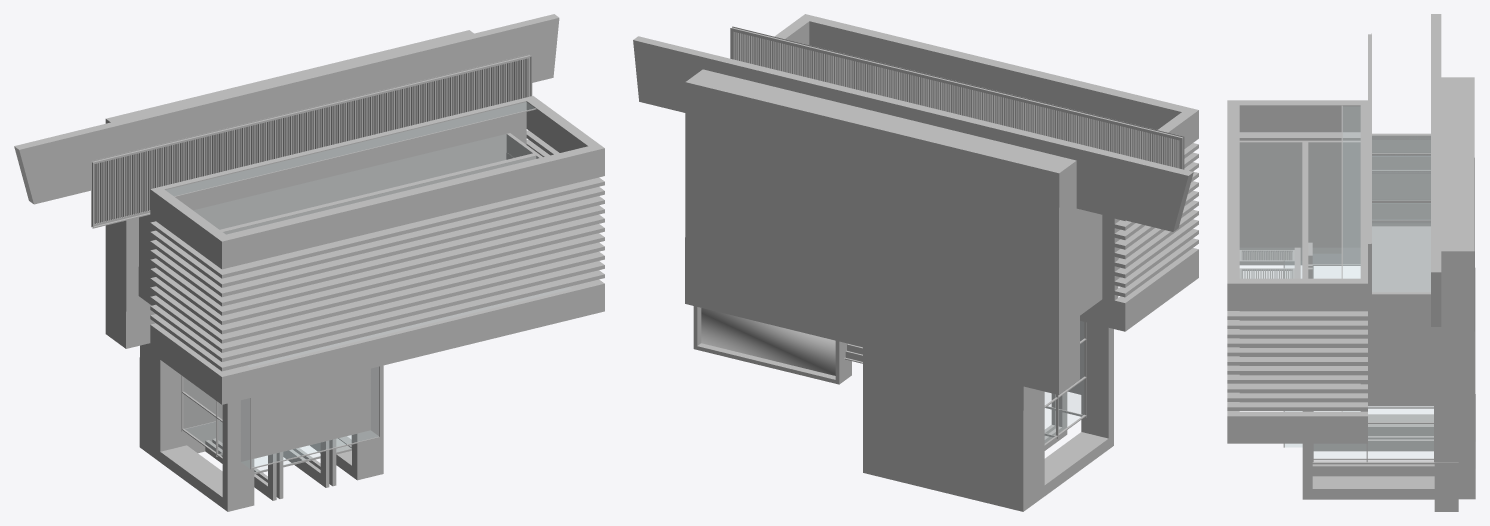
File: Minimal Modern Villa House N101225.obj
3 views of the same model, side by side, from view 1: azimuth 30°, elevation 25°; view 2: azimuth 150°, elevation 25°; view 3: azimuth 270°, elevation 25° (orthographic). The views are drawn at different scales.
Parts seen in each view (by area): view 1: gg_000565, gg_000584, gg_000577, gg_000581, gg_000004, gg_000591, gg_000001, gg_000602, gg_000567, gg_000568, gg_000575, gg_000569 (+18 smaller); view 2: gg_000004, gg_000001, gg_000565, gg_000577, gg_000602, Box145, gg_000581, gg_000631, gg_000003, gg_000584, gg_000550, gg_000588 (+5 smaller); view 3: gg_000004, gg_000577, gg_000623, gg_000620, gg_000581, gg_000631, gg_000588, gg_000636, gg_000559, gg_000565, gg_000578, gg_000562 (+33 smaller).
Part boxes in pixels (bbox=[...]): gg_000565: bbox=[14, 14, 559, 204]; gg_000584: bbox=[161, 98, 526, 229]; gg_000577: bbox=[150, 96, 604, 269]; gg_000581: bbox=[150, 279, 604, 404]; gg_000004: bbox=[105, 30, 473, 348]; gg_000591: bbox=[254, 372, 357, 458]; gg_000001: bbox=[139, 343, 222, 461]; gg_000602: bbox=[168, 397, 254, 511]; gg_000567: bbox=[150, 130, 604, 278]; gg_000568: bbox=[150, 139, 604, 287]; gg_000575: bbox=[150, 251, 604, 352]; gg_000569: bbox=[150, 196, 604, 297]; gg_000004: bbox=[685, 69, 1080, 394]; gg_000001: bbox=[863, 347, 1044, 511]; gg_000565: bbox=[633, 36, 1193, 231]; gg_000577: bbox=[774, 14, 1198, 148]; gg_000602: bbox=[1044, 321, 1113, 489]; Box145: bbox=[701, 308, 835, 375]; gg_000581: bbox=[1114, 248, 1198, 331]; gg_000631: bbox=[1080, 209, 1102, 314]; gg_000003: bbox=[693, 306, 851, 384]; gg_000584: bbox=[1080, 215, 1118, 328]; gg_000550: bbox=[730, 26, 1184, 169]; gg_000588: bbox=[1045, 321, 1083, 442]; gg_000004: bbox=[1434, 77, 1475, 462]; gg_000577: bbox=[1227, 100, 1367, 310]; gg_000623: bbox=[1239, 160, 1360, 229]; gg_000620: bbox=[1368, 292, 1434, 406]; gg_000581: bbox=[1227, 247, 1367, 443]; gg_000631: bbox=[1372, 133, 1430, 226]; gg_000588: bbox=[1313, 254, 1433, 457]; gg_000636: bbox=[1372, 220, 1430, 291]; gg_000559: bbox=[1372, 226, 1430, 292]; gg_000565: bbox=[1431, 14, 1441, 326]; gg_000578: bbox=[1302, 411, 1418, 499]; gg_000562: bbox=[1343, 107, 1359, 277].
Bounding box in the file's own units: 30478 × 18858 × 12363.
